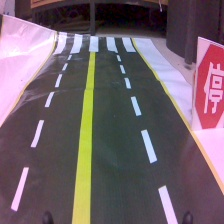stop: (193, 34, 224, 133)
